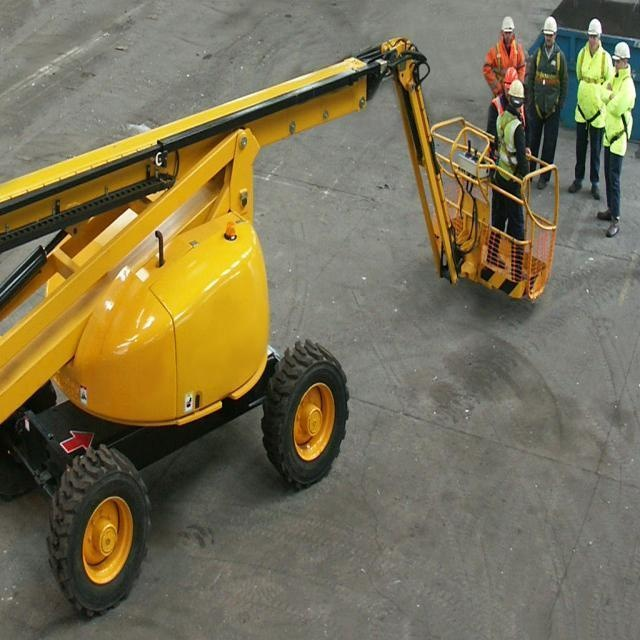Arnes_seguridad: (578, 46, 606, 122), (496, 111, 525, 182), (534, 45, 560, 123), (605, 71, 630, 149), (495, 42, 523, 92)
